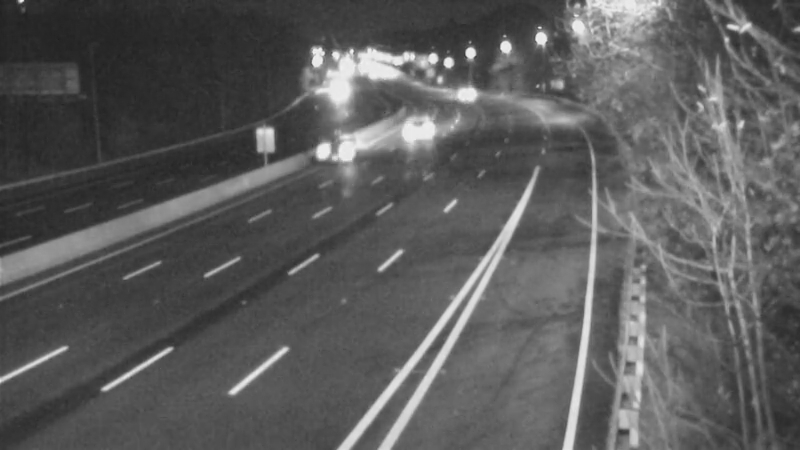vehicle: (443, 65, 493, 115), (398, 94, 448, 144), (325, 122, 375, 172)
